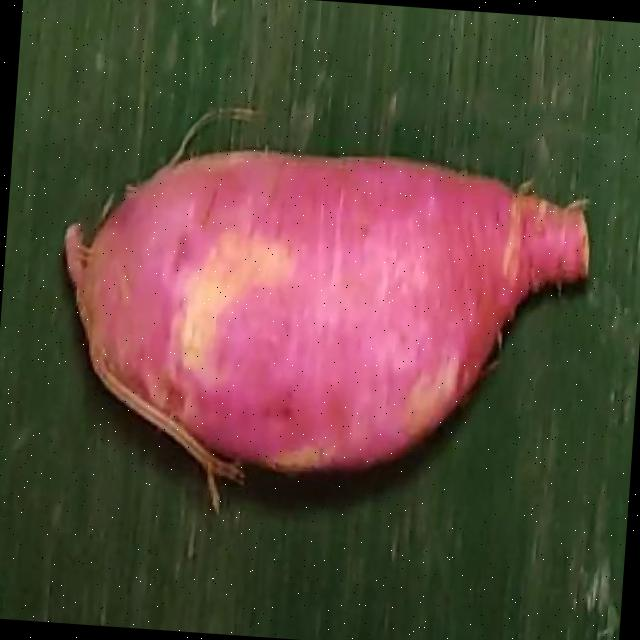Sweet Potato: (61, 147, 590, 463)
